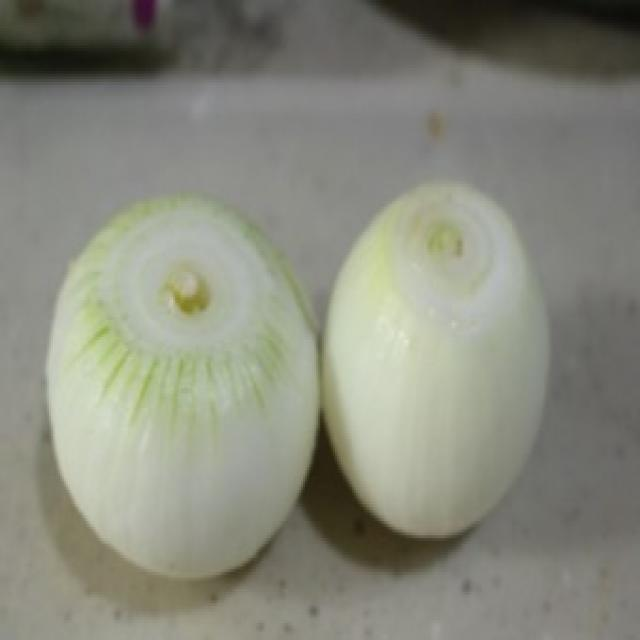onion: (47, 176, 322, 586), (318, 163, 560, 558)
